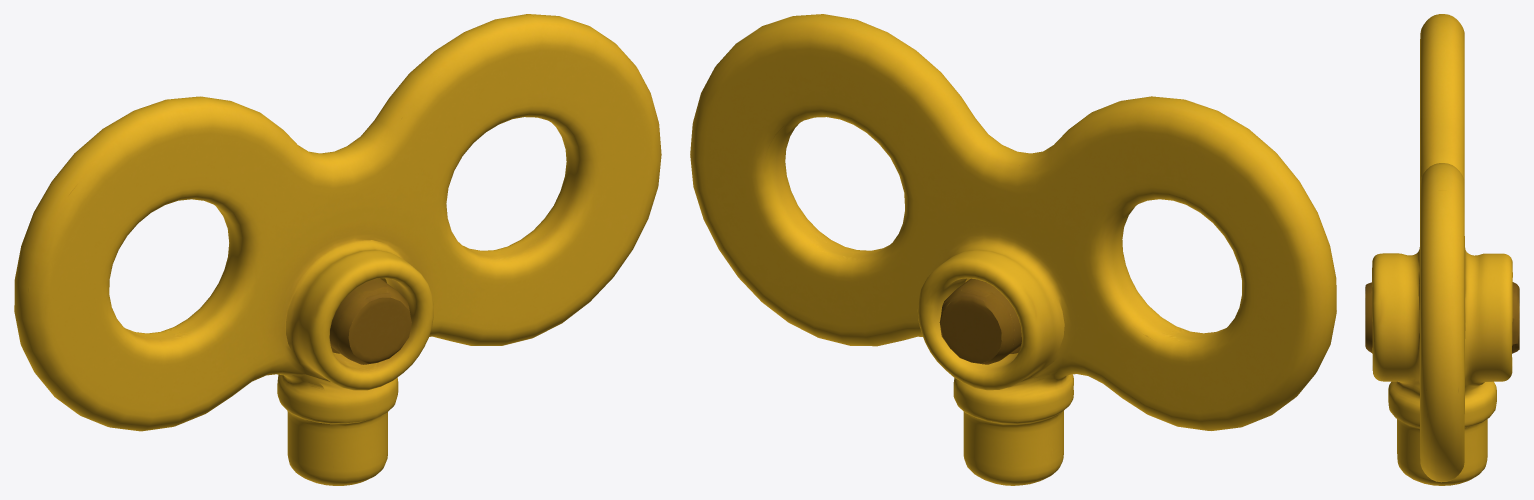
Rendered from Spring.fbx.
3 views of the same model, side by side, from view 1: azimuth 30°, elevation 25°; view 2: azimuth 150°, elevation 25°; view 3: azimuth 270°, elevation 25° (orthographic). The views are drawn at different scales.
Parts seen in each view (by area): view 1: Mesh0; view 2: Mesh0; view 3: Mesh0.
Part boxes in pixels (x1,y1,x2,y2): Mesh0: [14, 14, 661, 485]; Mesh0: [690, 14, 1336, 485]; Mesh0: [1365, 14, 1519, 485].
Size of the model in its own units: 190 by 117 by 44.02.
1 material, 1 textured.
